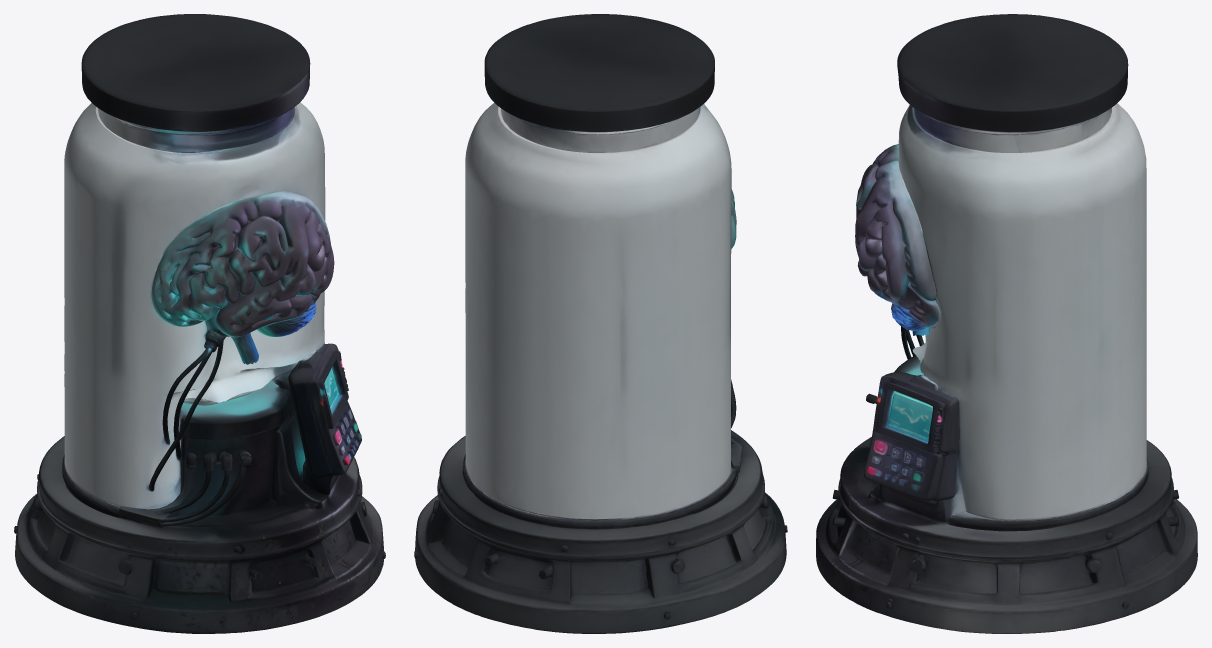
The model's file is cache_station.glb.
The picture shows the model from 3 angles, left to right: view 1: azimuth 30°, elevation 25°; view 2: azimuth 150°, elevation 25°; view 3: azimuth 270°, elevation 25°; orthographic projection.
Visible parts, largest first — view 1: model; view 2: model; view 3: model.
Part boxes in pixels (x1=…): model: x1=14, y1=14, x2=385, y2=633; model: x1=414, y1=14, x2=787, y2=633; model: x1=816, y1=14, x2=1197, y2=633.
Bounding box in the file's own units: 1.29 × 1.9 × 1.33.
1 material, 1 textured.
